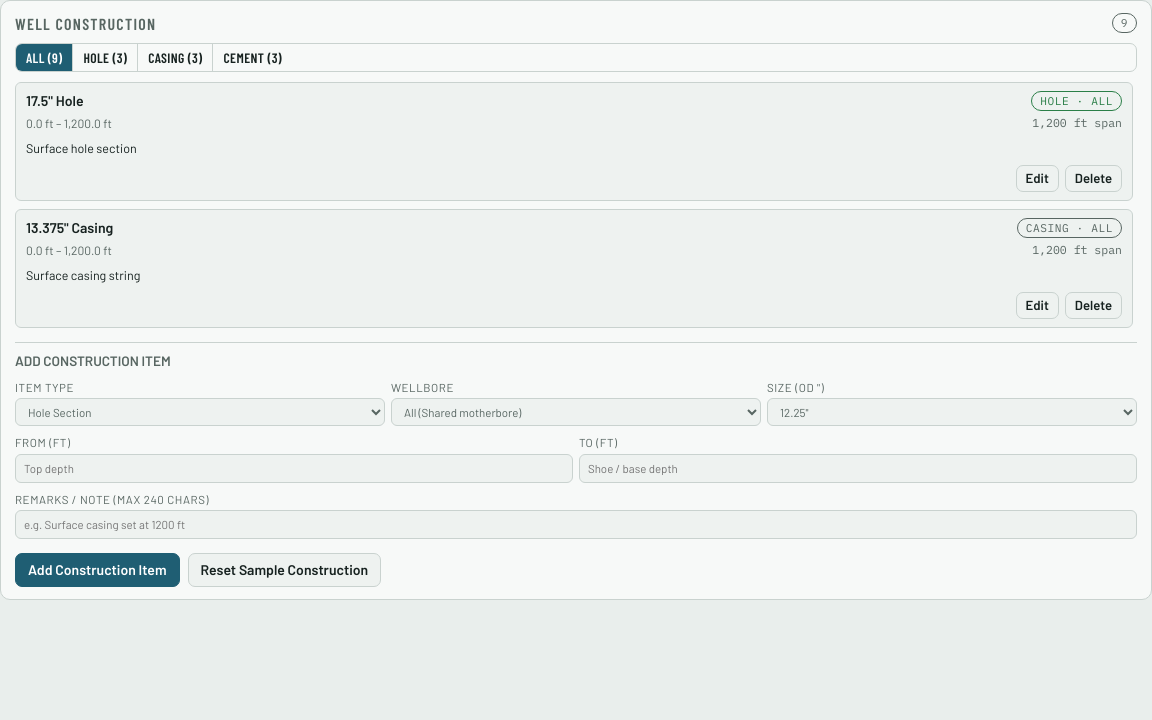
Test case: <ConstructionEditor> › adding a construction item › shows validation error when To depth is shallower than From depth
Type "5000" into the number field named "from depth" at (294,468), box [15, 454, 573, 483]
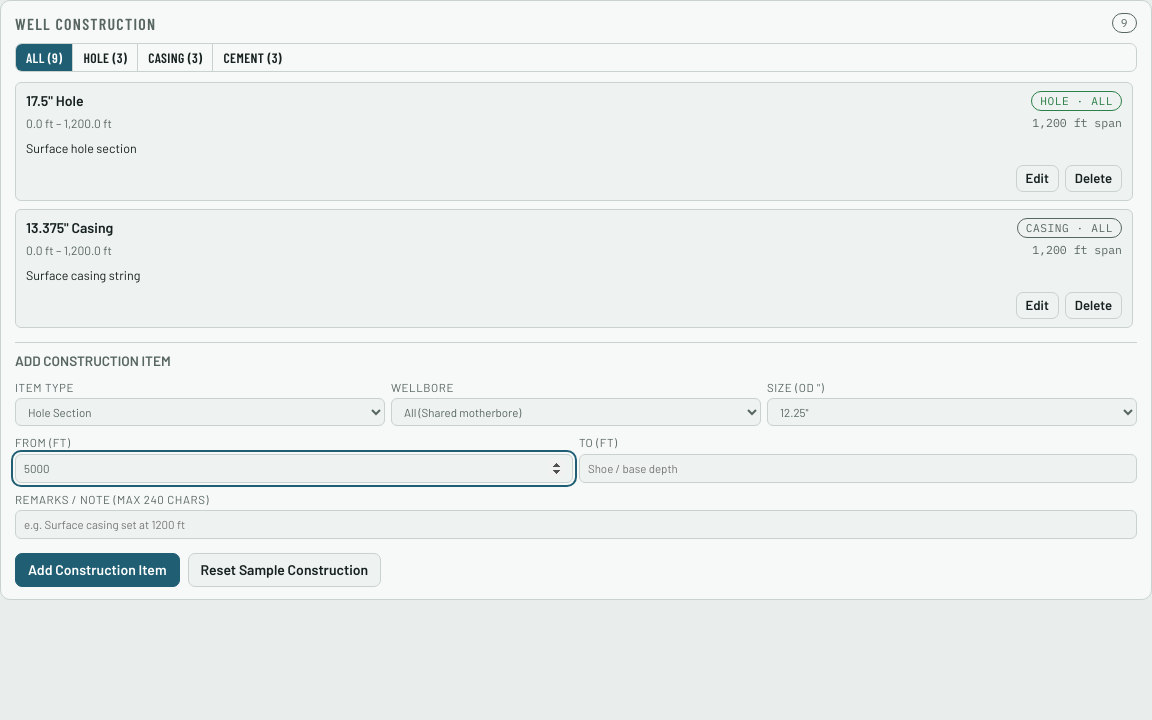
Type "2000" into the number field named "to depth" at (858,468), box [579, 454, 1137, 483]
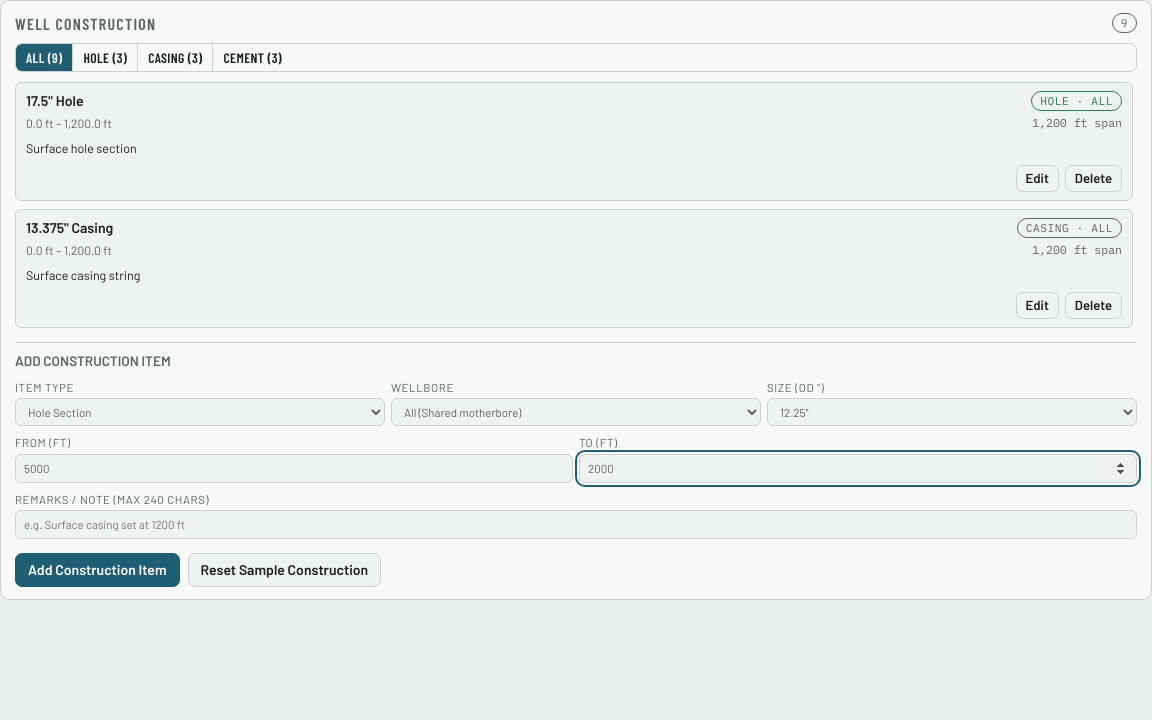
Click the button "Add Construction Item" at (97,570), box [15, 553, 180, 587]
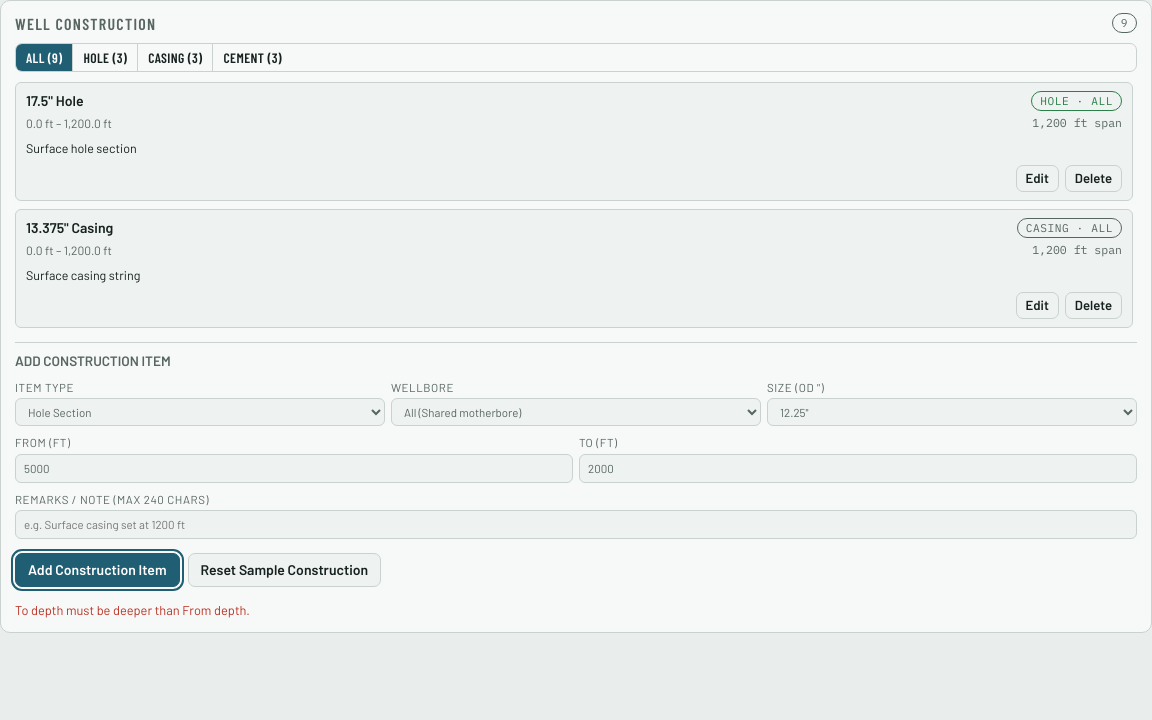
Result: the text "To depth must be deeper than From depth." is shown at [15, 602, 250, 618]
